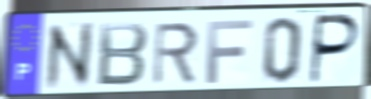0: (260, 14, 304, 86)
B: (95, 20, 150, 88)
F: (205, 17, 255, 85)
N: (44, 20, 94, 93)
P: (307, 13, 362, 86)
R: (151, 20, 201, 88)
